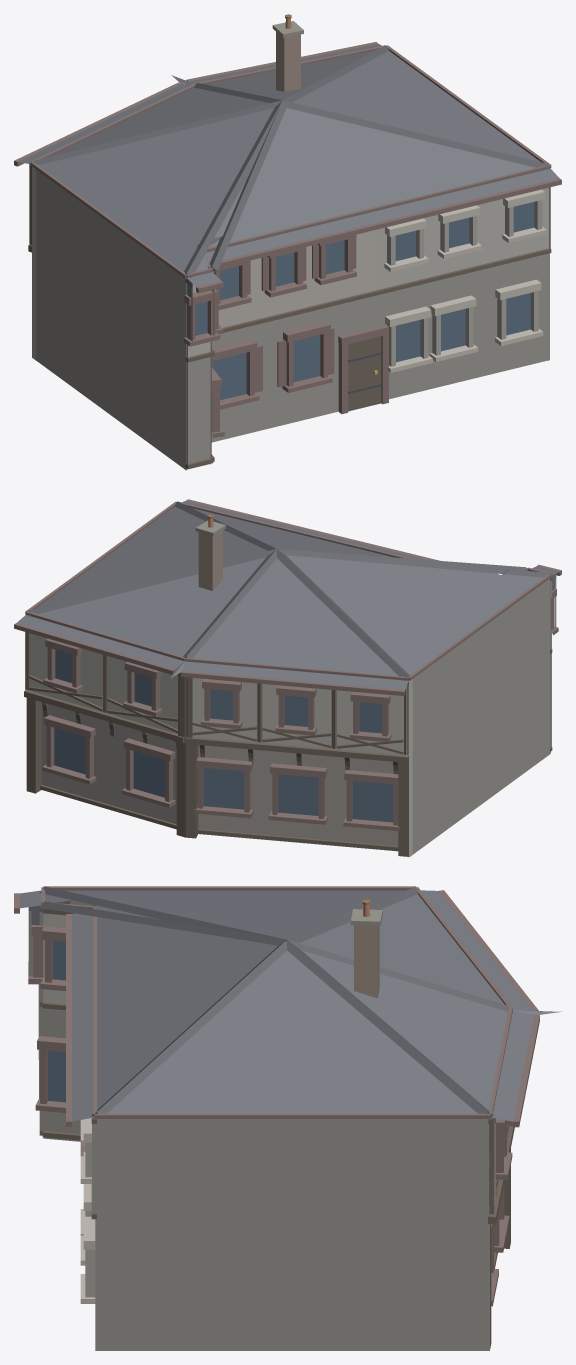
The model's file is b098_closed.glb.
The picture shows the model from 3 angles, top to bottom: view 1: azimuth 30°, elevation 25°; view 2: azimuth 150°, elevation 25°; view 3: azimuth 270°, elevation 25°; orthographic projection. The views are drawn at different scales.
Parts seen in each view (by area): view 1: B098_visible; view 2: B098_visible; view 3: B098_visible.
Part boxes in pixels (bbox=[...]): B098_visible: bbox=[14, 14, 561, 470]; B098_visible: bbox=[14, 499, 561, 857]; B098_visible: bbox=[14, 886, 561, 1350].
Bounding box in the file's own units: 13.7 × 9.95 × 13.66.
